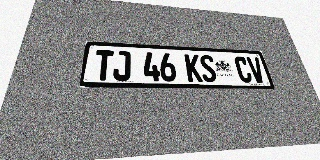4: (143, 52, 160, 81)
6: (159, 53, 177, 82)
C: (233, 56, 253, 83)
J: (112, 51, 130, 81)
K: (184, 54, 203, 82)
S: (199, 55, 218, 82)
T: (93, 50, 114, 81)
V: (246, 57, 266, 83)
